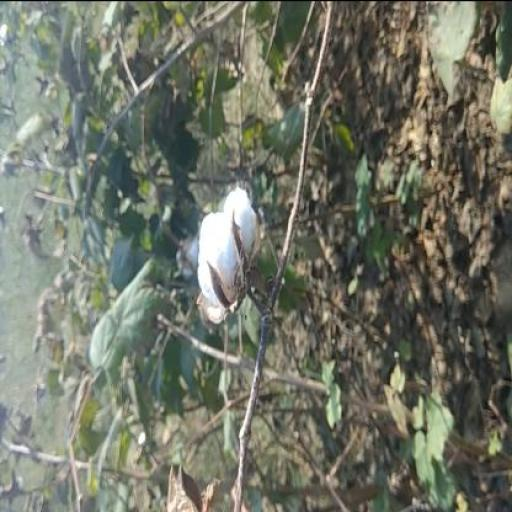cotton_ready: (182, 178, 294, 325)
